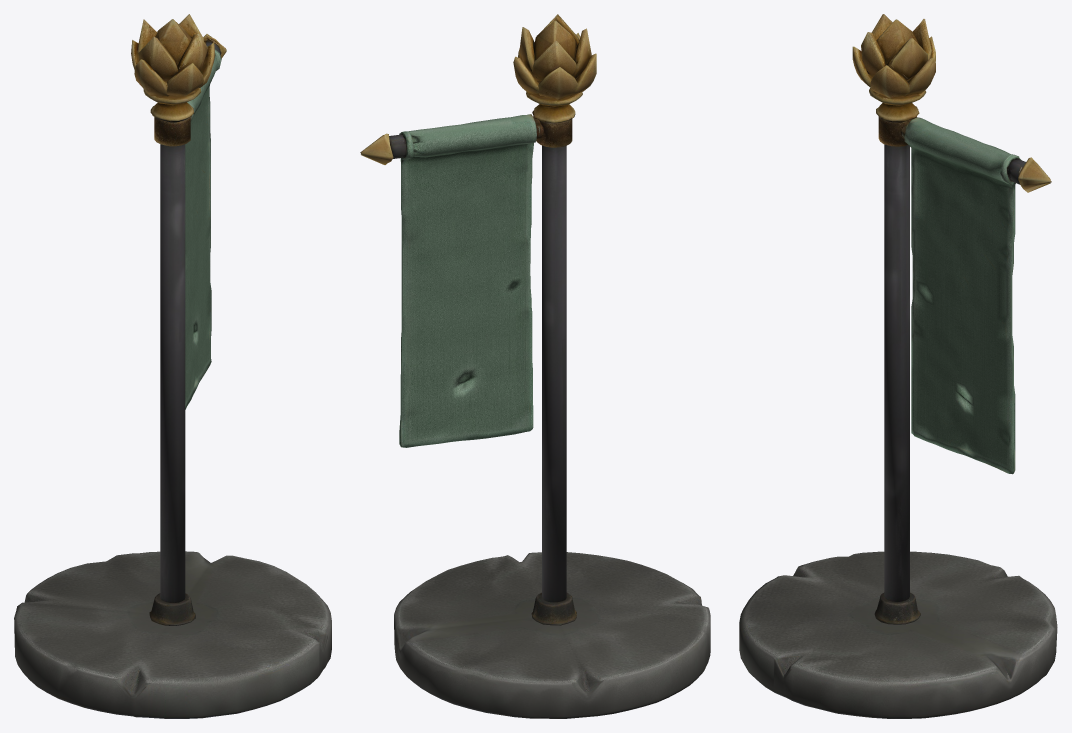
Rendered from tripo_convert_6ea2c2ad-3904-4f9a-97c3-ed0bcc486f97.fbx.
3 renders of one model, left to right at view 1: azimuth 30°, elevation 25°; view 2: azimuth 150°, elevation 25°; view 3: azimuth 270°, elevation 25°, orthographic.
Parts seen in each view (by area): view 1: tripo_node_6ea2c2ad; view 2: tripo_node_6ea2c2ad; view 3: tripo_node_6ea2c2ad.
Boxes of the visible parts, <box> form: tripo_node_6ea2c2ad: <box>14,14,331,718</box>; tripo_node_6ea2c2ad: <box>360,14,710,718</box>; tripo_node_6ea2c2ad: <box>739,14,1057,718</box>.
Bounding box in the file's own units: 0.4551 × 0.998 × 0.4551.
1 material, 1 textured.
